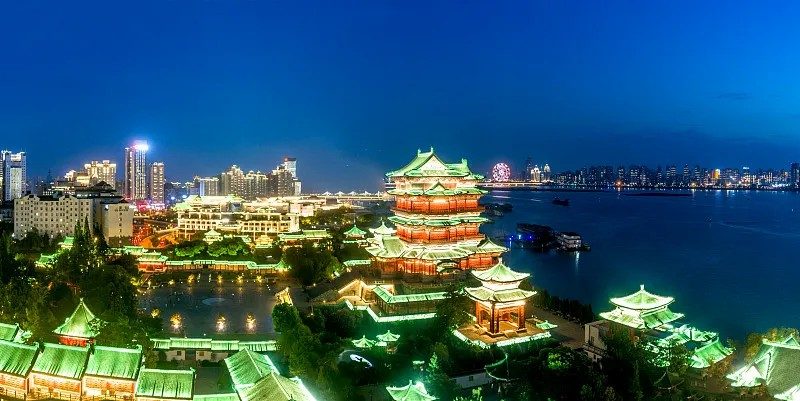Teng: (365, 147, 509, 276)
